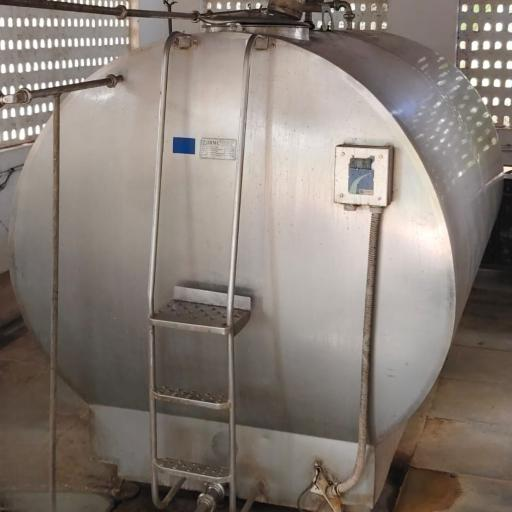silo: (7, 9, 507, 511)
